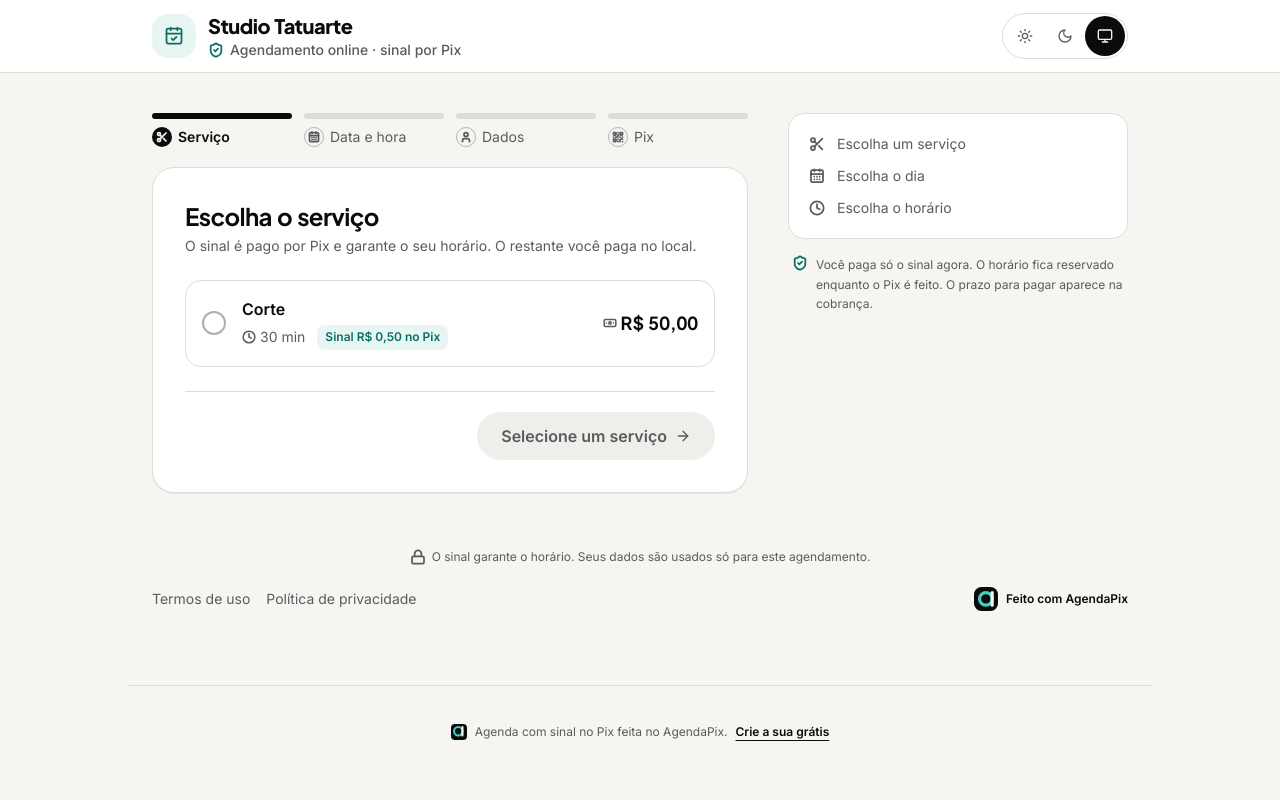
Test: payment_unavailable mostra só a frase do front e esconde o texto do servidor
Click the radio button labelled "Corte 30 min Sinal R$ 0,50 no Pix R$ 50,00".
click(450, 323)  # box [185,280,715,366]
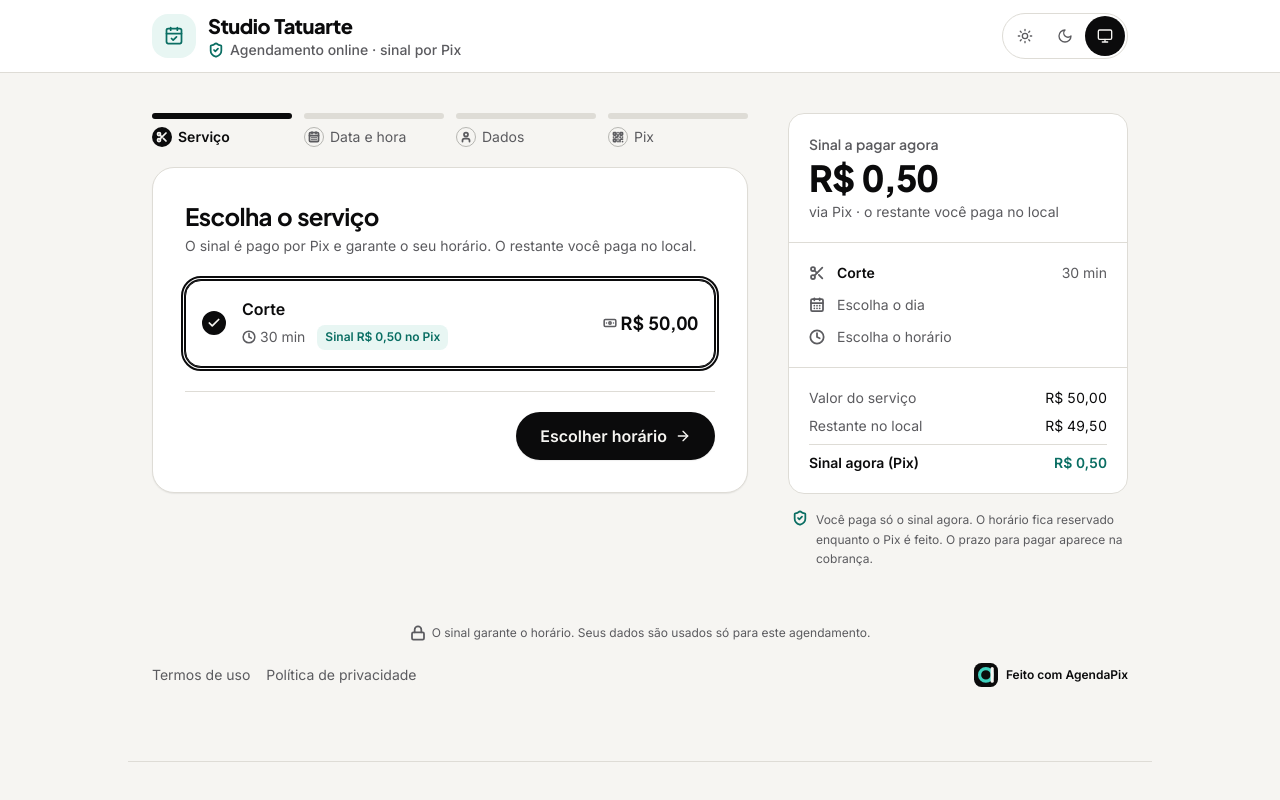
Click the button "Escolher horário".
click(616, 436)  # box [516,412,715,460]
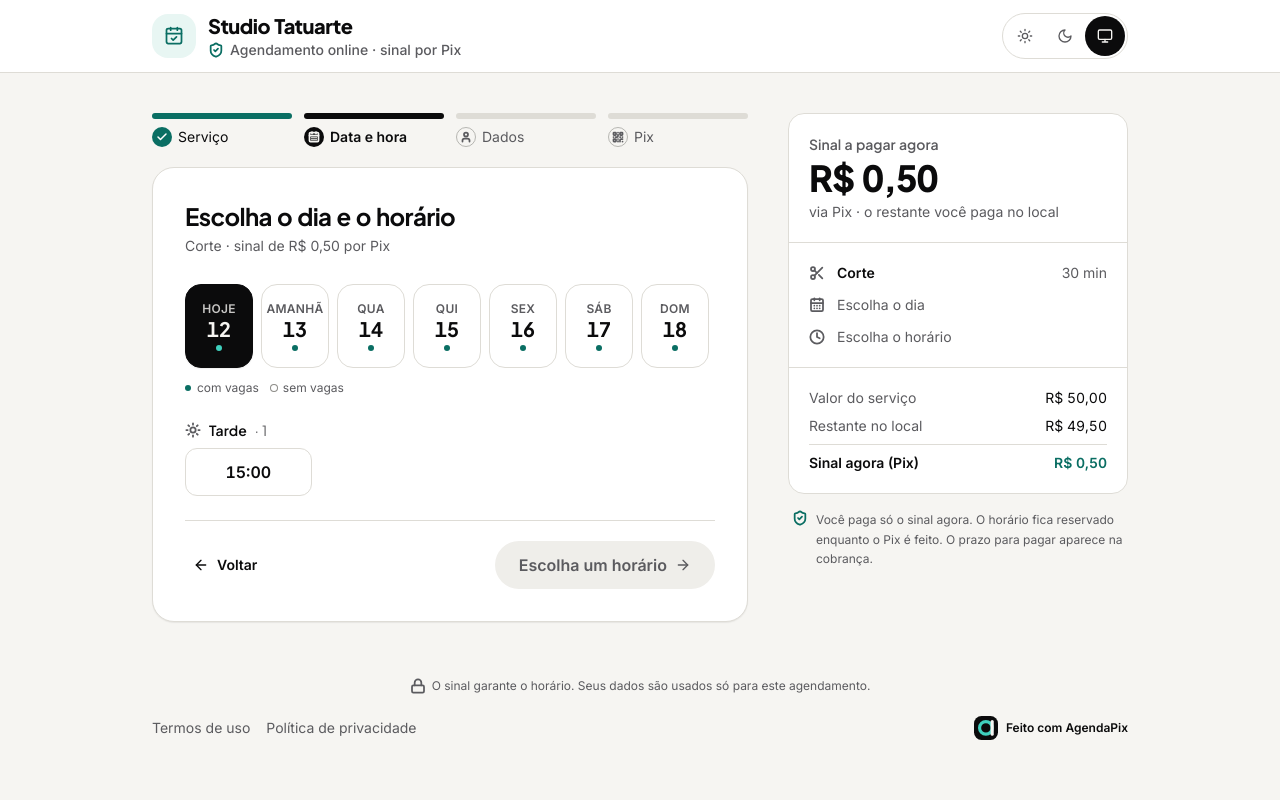
Click the radio button labelled "15:00".
click(248, 472)  # box [185,448,312,496]
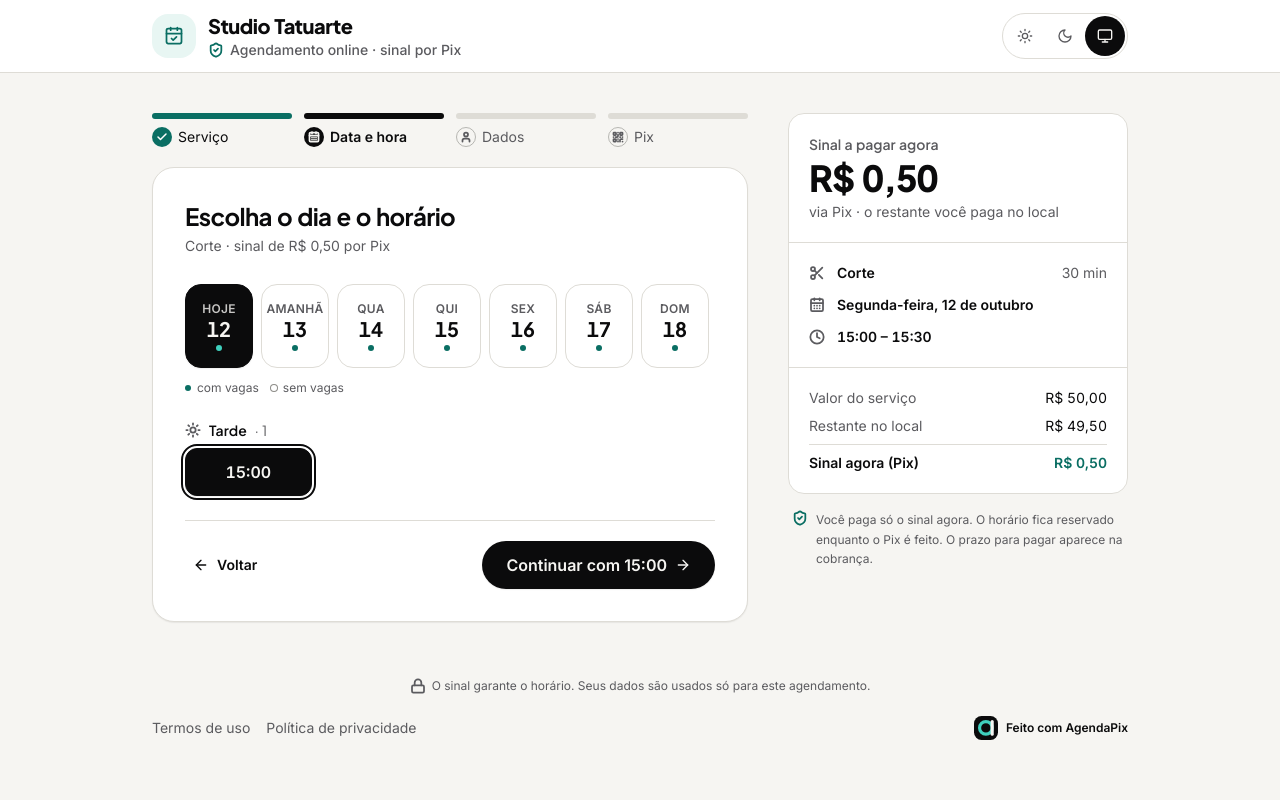
Click the button "Continuar com 15:00".
click(599, 565)  # box [482,541,715,589]
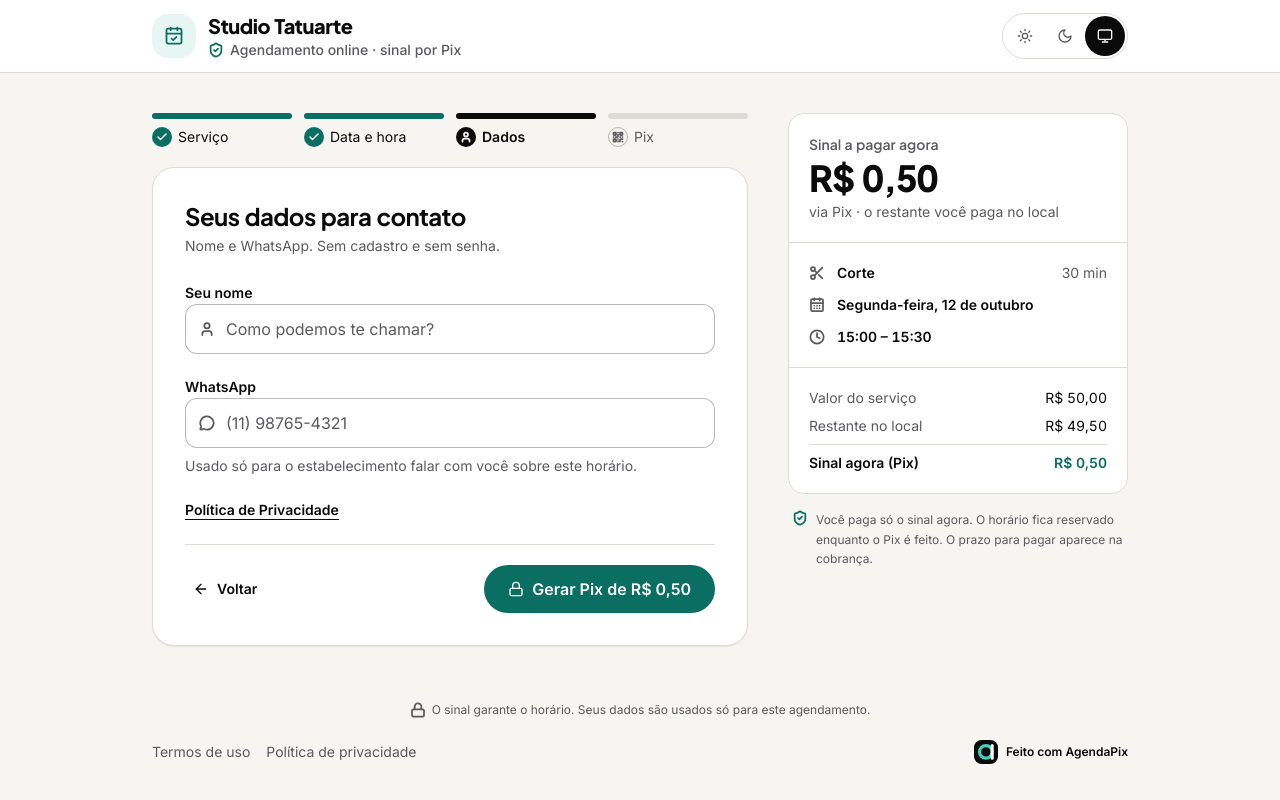
Type "Matheus" into the field labelled "Seu nome".
click(450, 329); type("Matheus")  # box [186,305,714,353]
Type "14997504655" into the field labelled "WhatsApp".
click(450, 423); type("14997504655")  # box [186,399,714,447]
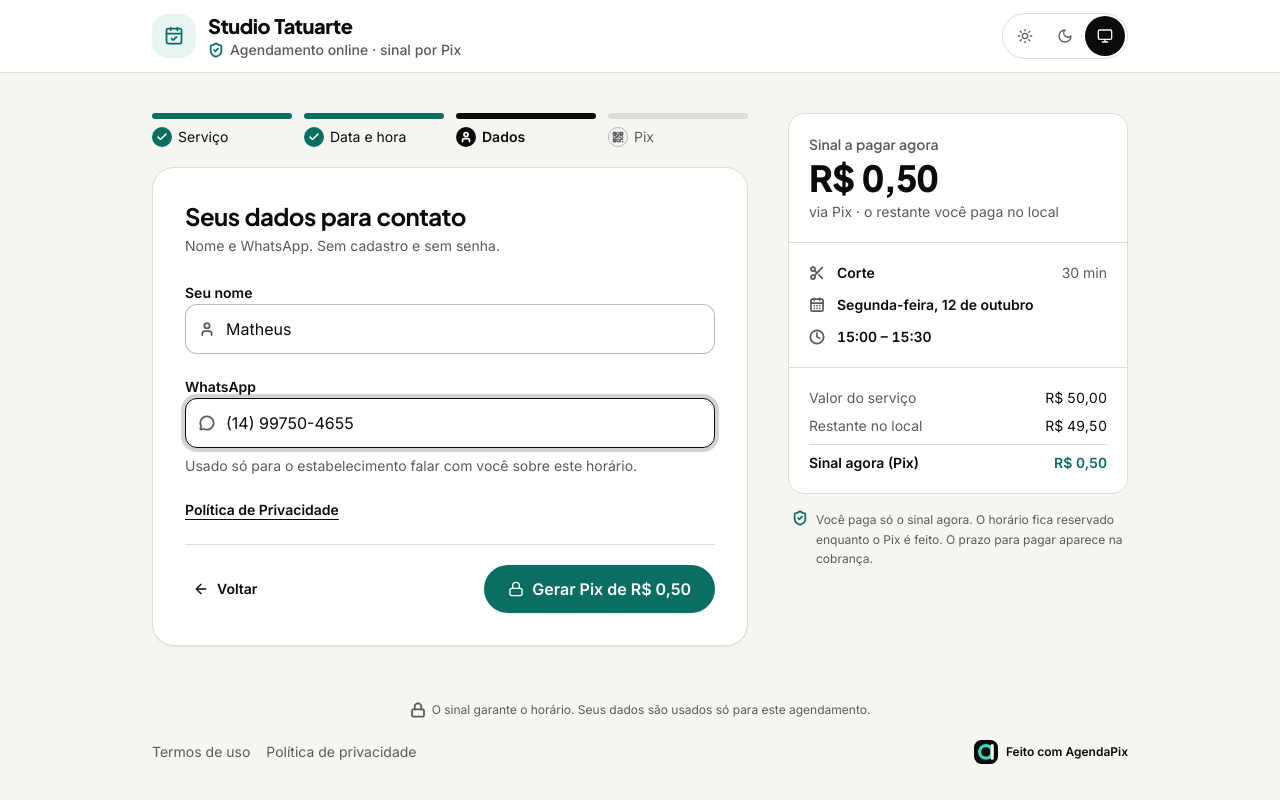
Click the button "Gerar Pix de R$ 0,50".
click(600, 589)  # box [484,565,715,613]
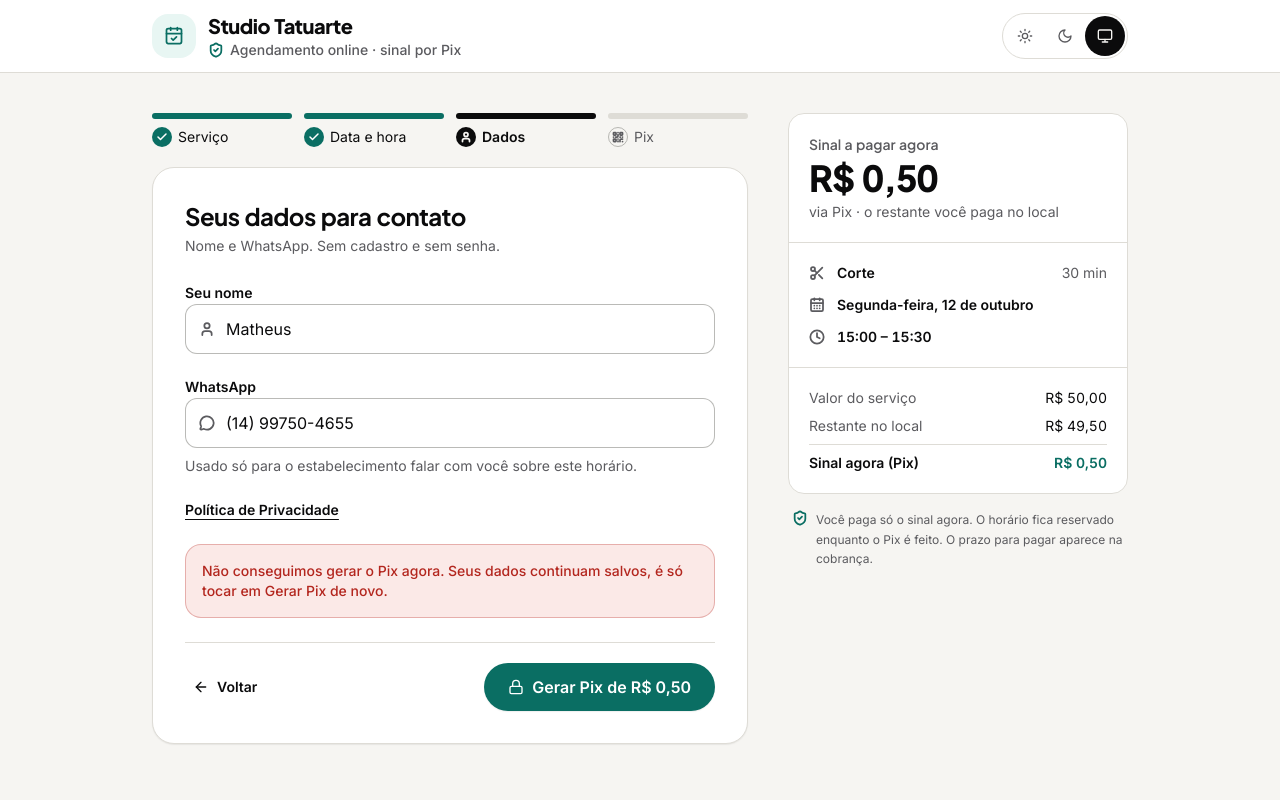
Expected: the message does not show "A cobrança foi recusada pela conta do Mercado Pago.", [185,544,715,618]
Now the message shows "Não conseguimos gerar o Pix agora. Seus dados continuam salvos, é só tocar em Gerar Pix de novo.", box [202,562,683,599]
